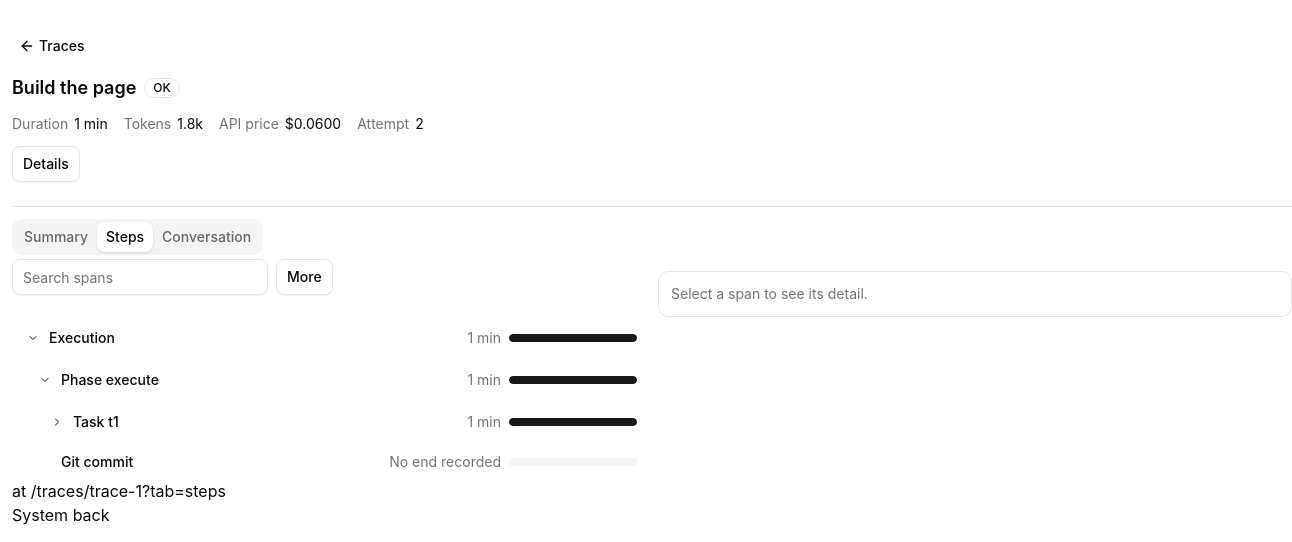
TraceScreen conversation › reads no entry before the human opens the Conversation tab
This screenshot has width=1292, height=542.
Check: the element named "Spans" is shown, box x1=12 y1=319 x2=646 y2=479
What coordinates should you click on to do the following:
click the tab "Conversation"
I would click on:
 (207, 237)
Its box is x1=153 y1=222 x2=260 y2=252.
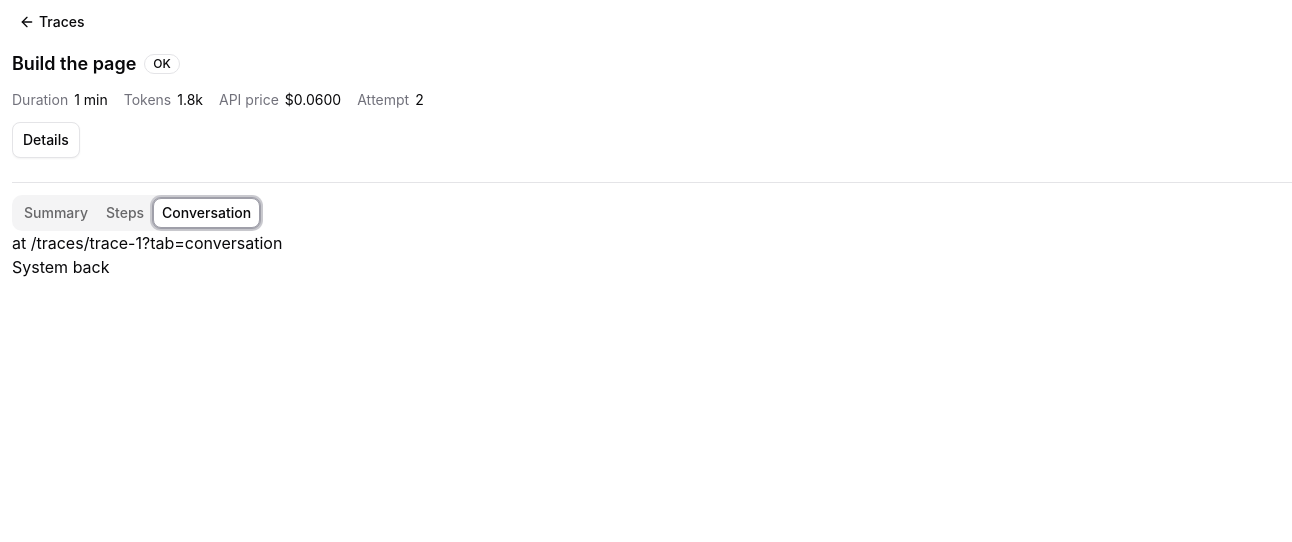
Check: the text "at /traces/trace-1?tab=conversation" is shown, box x1=12 y1=233 x2=282 y2=253
